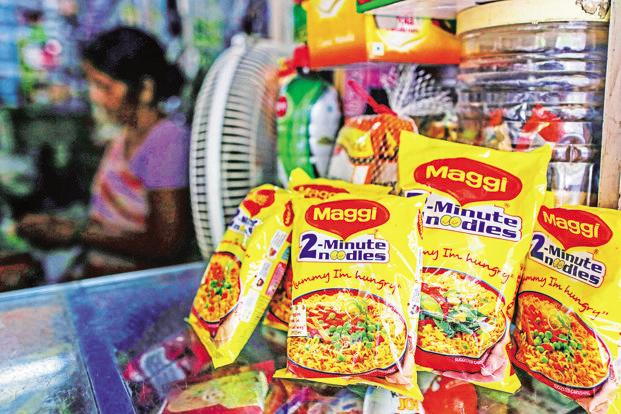maggi: (294, 203, 418, 391), (514, 203, 620, 405)
